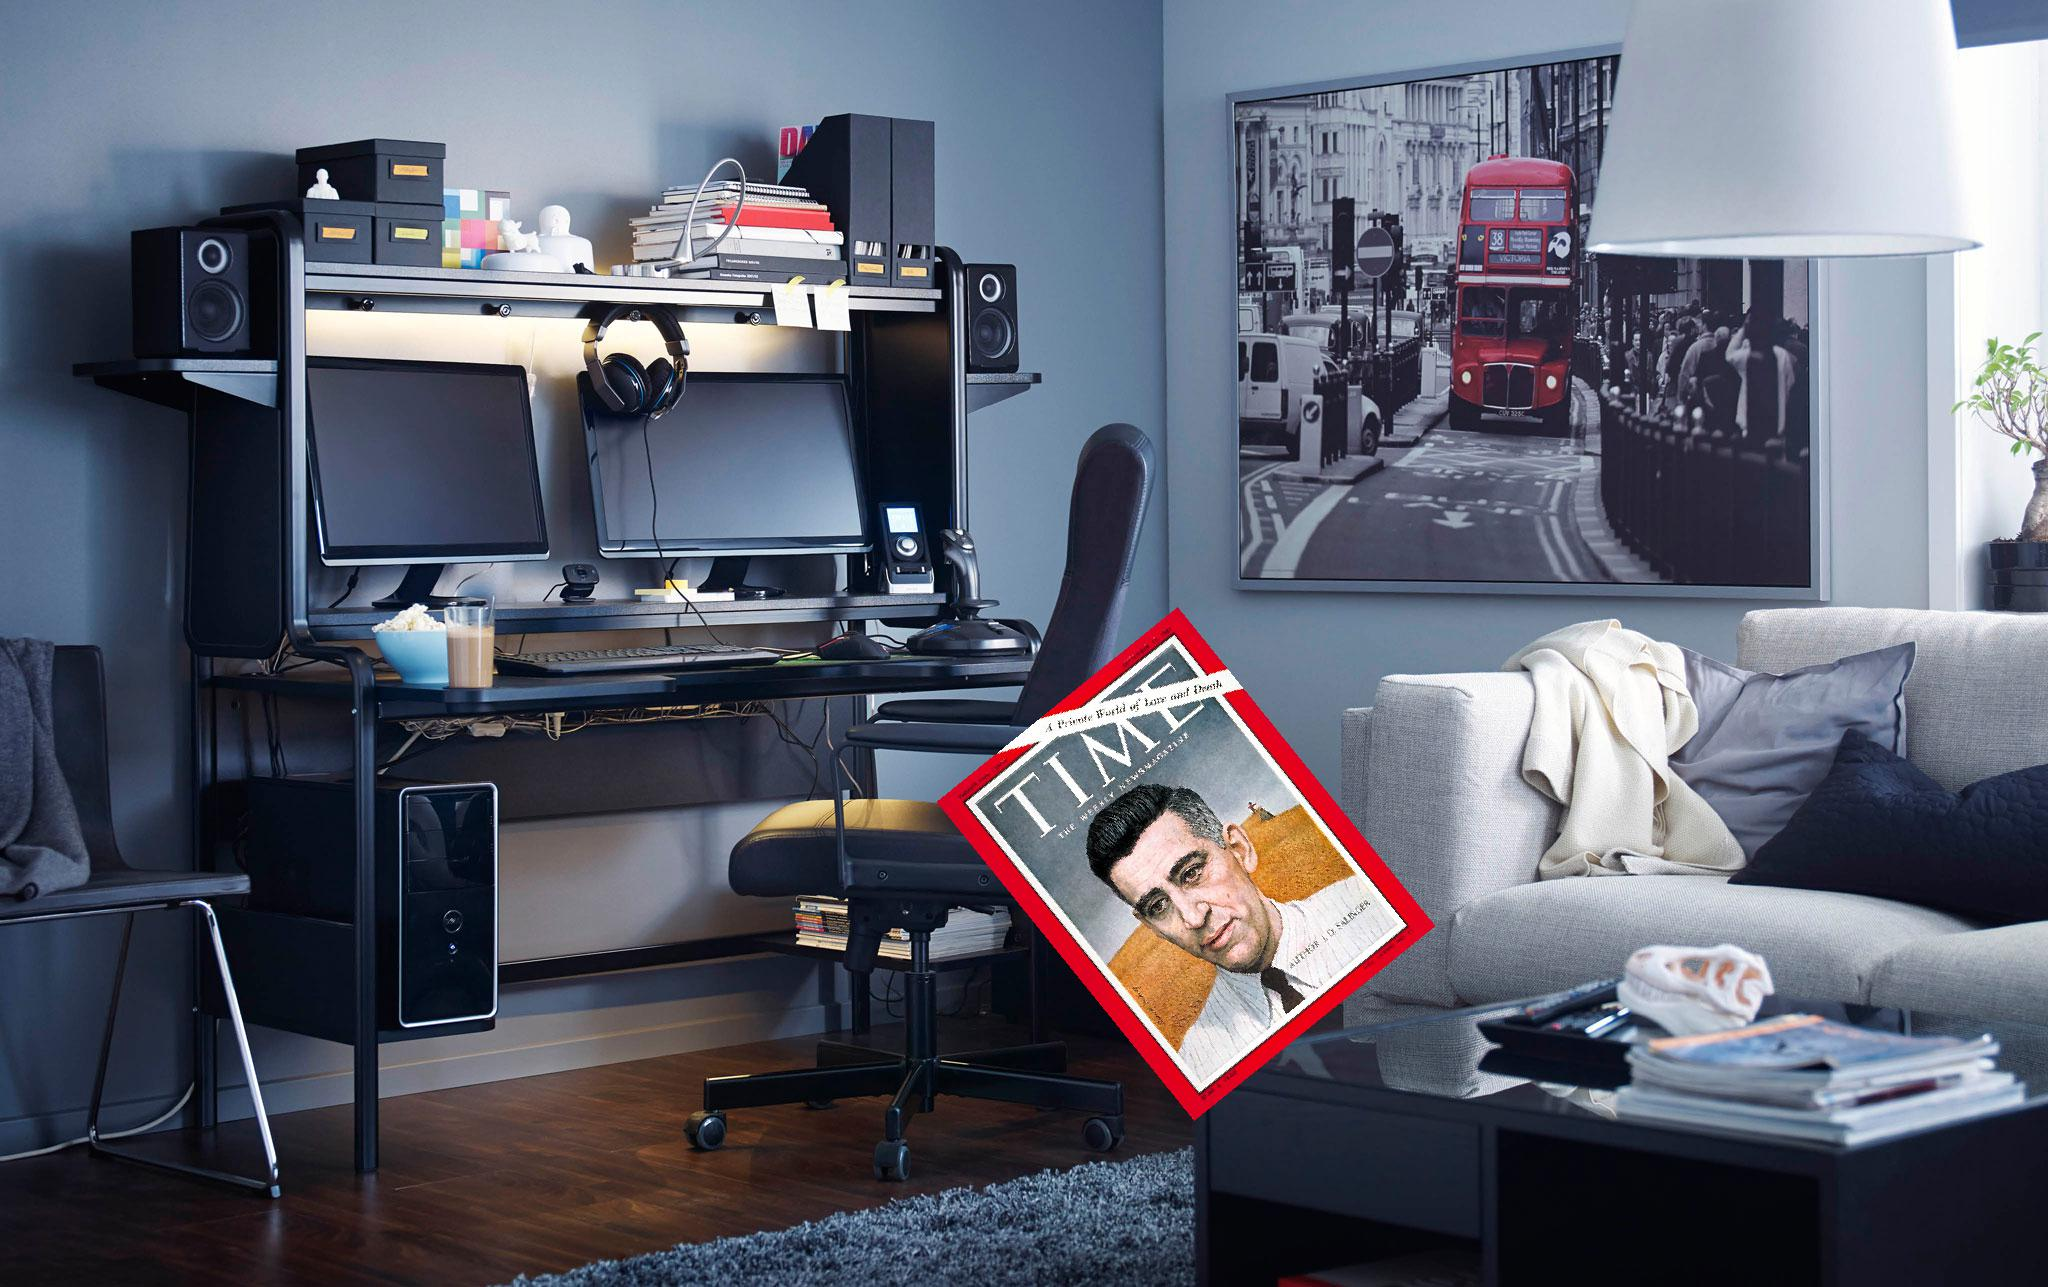times: (931, 599, 1432, 1128)
